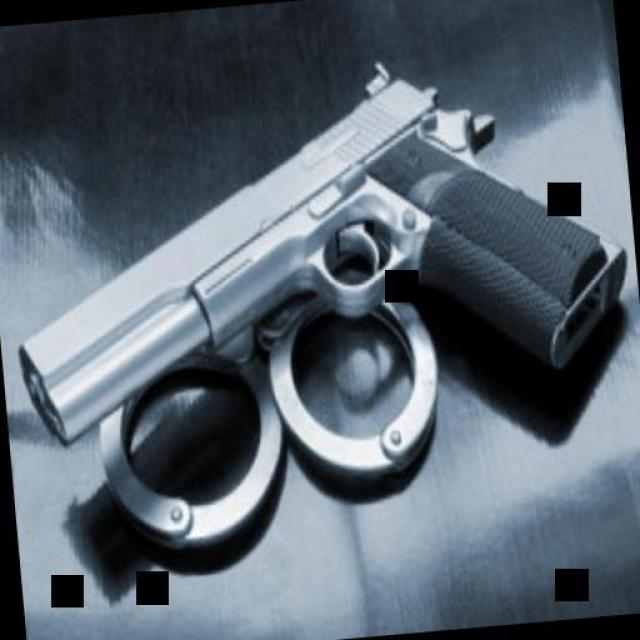gun: (10, 50, 620, 489)
